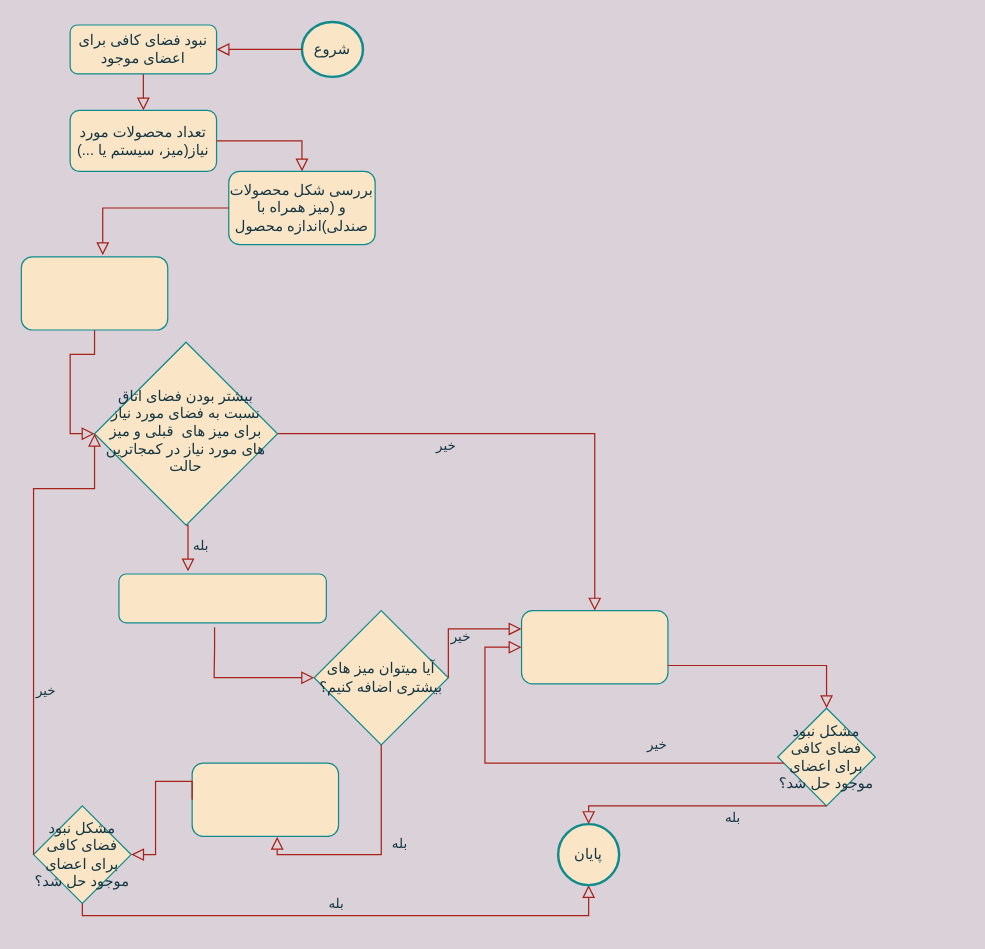
The diagram is 985 pixels wide and 949 high, and some of its shapes have lost their labels. The shapes that lost their labels are listed below. From the top down, each one's centre as x and y in pixels, then its label:
(x=94, y=293): بررسی شکل و اندازه اتاق
(x=222, y=598): بررسی تعداد ومحل قرارگیری پنجره ها
(x=594, y=646): طراحی نحوه چینش میز ها و نشستن افردا در میز ها
(x=265, y=799): اضافه کردن میز و سیستم و صندل مورد نیاز
